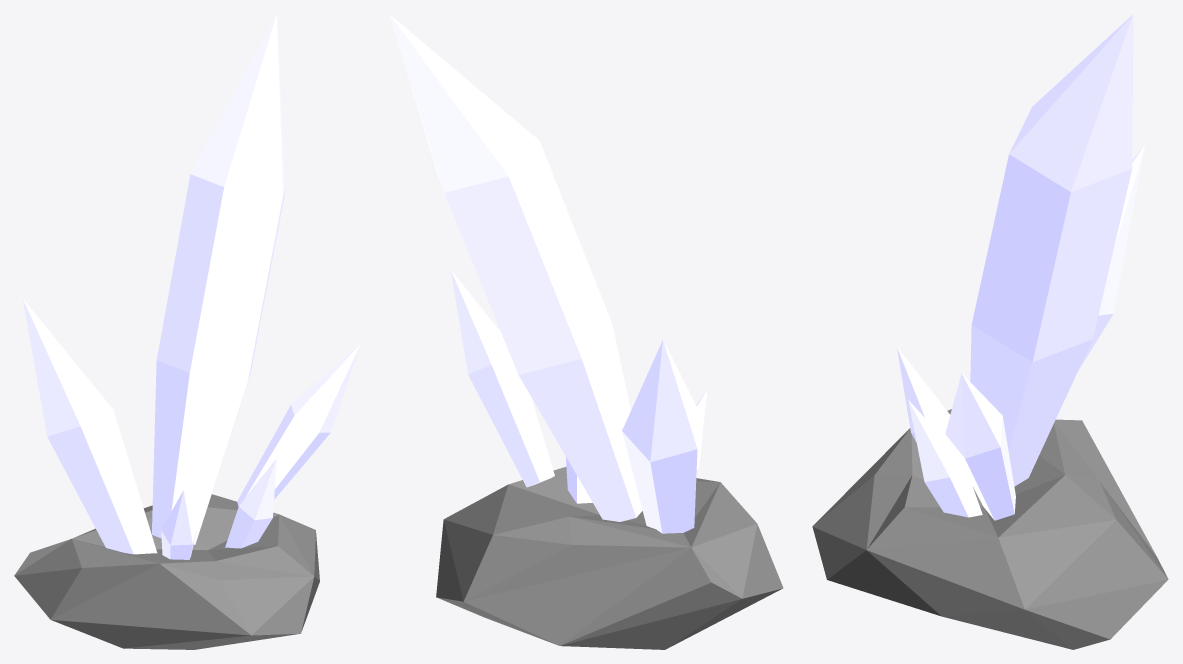
File: Ore_Aetherium_1.glb
The picture shows the model from 3 angles, left to right: view 1: azimuth 30°, elevation 25°; view 2: azimuth 150°, elevation 25°; view 3: azimuth 270°, elevation 25°; orthographic projection. The views are drawn at different scales.
Visible parts, largest first — view 1: Aetherium_Ore_1; view 2: Aetherium_Ore_1; view 3: Aetherium_Ore_1.
Boxes of the visible parts, box(x1,y1,x2,y2) form: Aetherium_Ore_1: box(14, 14, 360, 649); Aetherium_Ore_1: box(389, 14, 783, 649); Aetherium_Ore_1: box(812, 14, 1168, 649).
Size of the model in its own units: 4.07 by 6.94 by 3.33.
1 material, 1 textured.
